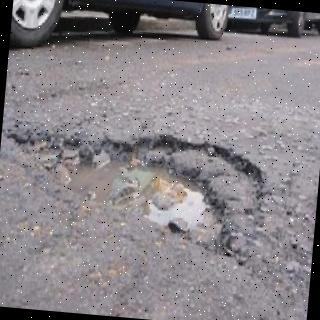pothole: (8, 134, 261, 255)
